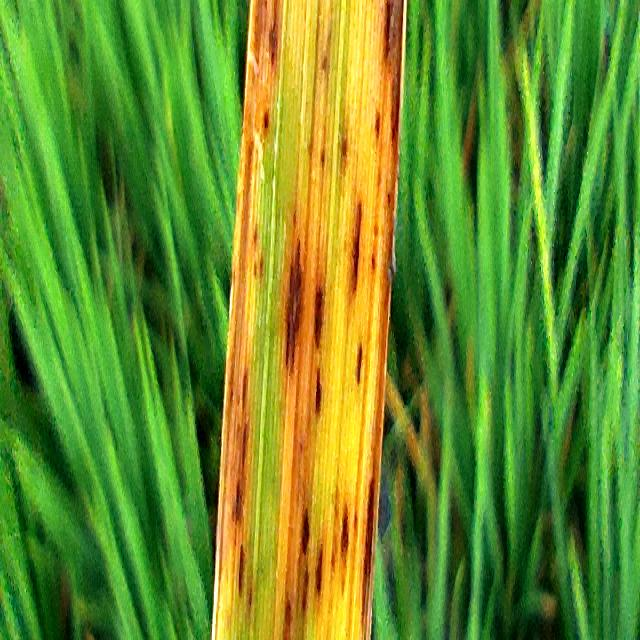NBS: (284, 236, 304, 391), (350, 197, 363, 299), (313, 272, 326, 354), (298, 493, 313, 562), (365, 476, 374, 577), (312, 356, 323, 421), (270, 0, 279, 71), (341, 502, 348, 564), (315, 544, 323, 592), (239, 541, 246, 595), (384, 0, 390, 61), (285, 595, 291, 640), (303, 568, 309, 612), (241, 369, 247, 411), (357, 341, 362, 385), (242, 425, 246, 467)
